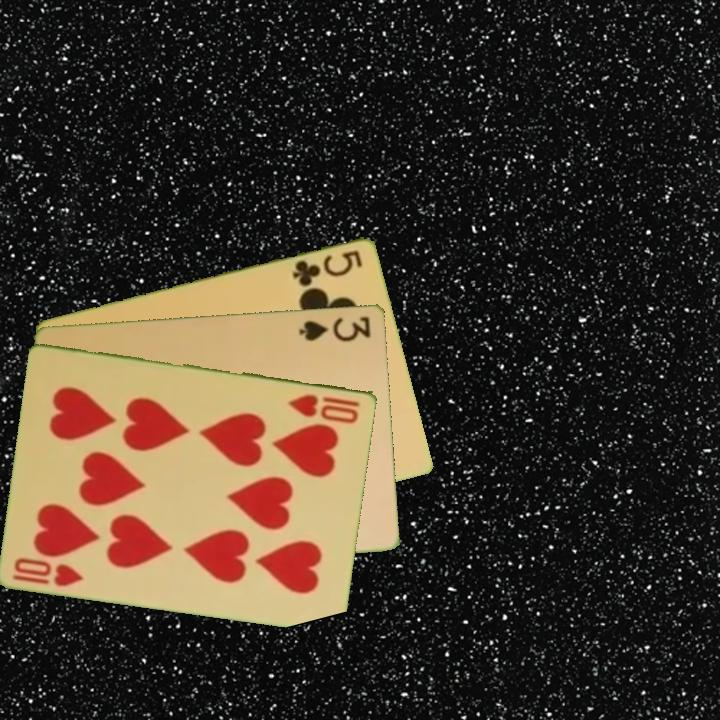10h: (9, 553, 88, 589), (285, 390, 364, 425)
3s: (296, 312, 374, 344)
5c: (289, 246, 366, 289)
